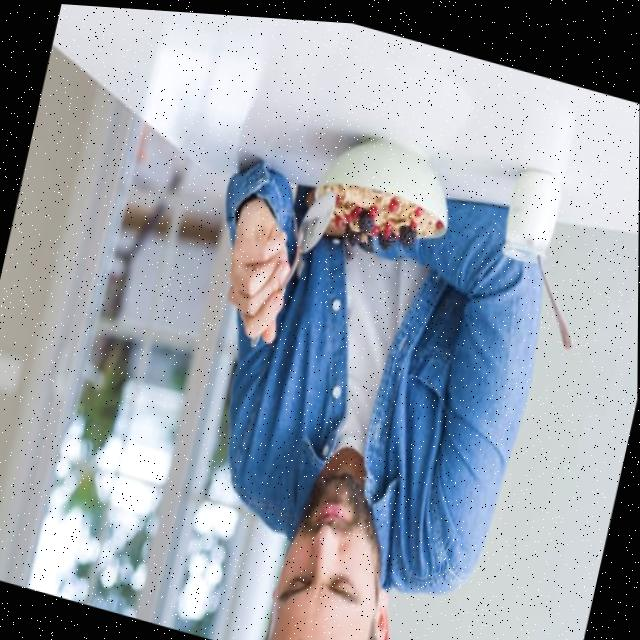eating-person: (131, 57, 618, 640)
